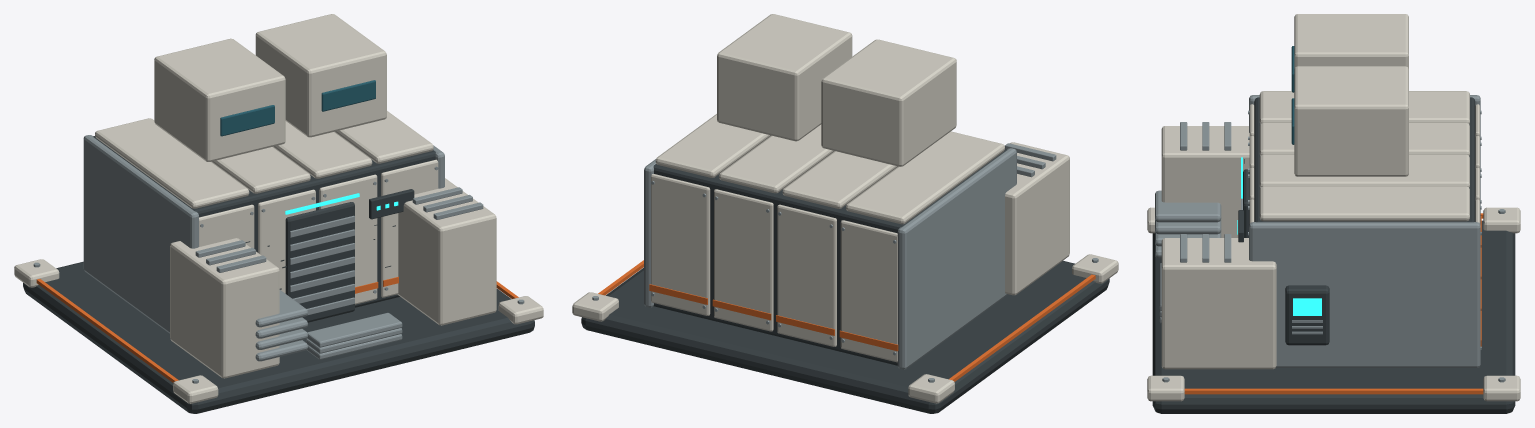
Rendered from SM_HabitatSystemsPlant_Body.002.fbx.
3 views of the same model, side by side, from view 1: azimuth 30°, elevation 25°; view 2: azimuth 150°, elevation 25°; view 3: azimuth 270°, elevation 25° (orthographic). The views are drawn at different scales.
Visible parts, largest first — view 1: SM_HabitatSystemsPlant_Body.002; view 2: SM_HabitatSystemsPlant_Body.002; view 3: SM_HabitatSystemsPlant_Body.002.
Boxes of the visible parts, bbox=[...] form: SM_HabitatSystemsPlant_Body.002: bbox=[14, 14, 543, 413]; SM_HabitatSystemsPlant_Body.002: bbox=[572, 14, 1118, 413]; SM_HabitatSystemsPlant_Body.002: bbox=[1147, 14, 1520, 413].
Bounding box in the file's own units: 492 × 422 × 335.
